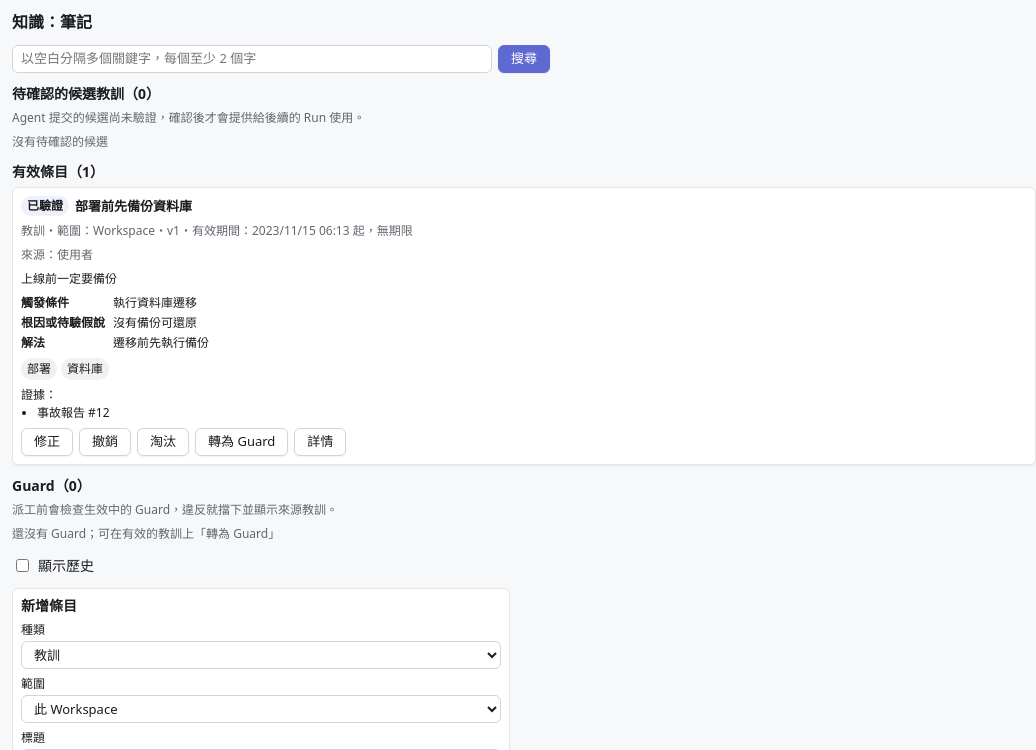
Test: 知識 › 其他操作失敗時在該條目顯示 Runtime 的說明，表單保留
Click the button "撤銷" at (105,442), box [79,428,131,456]
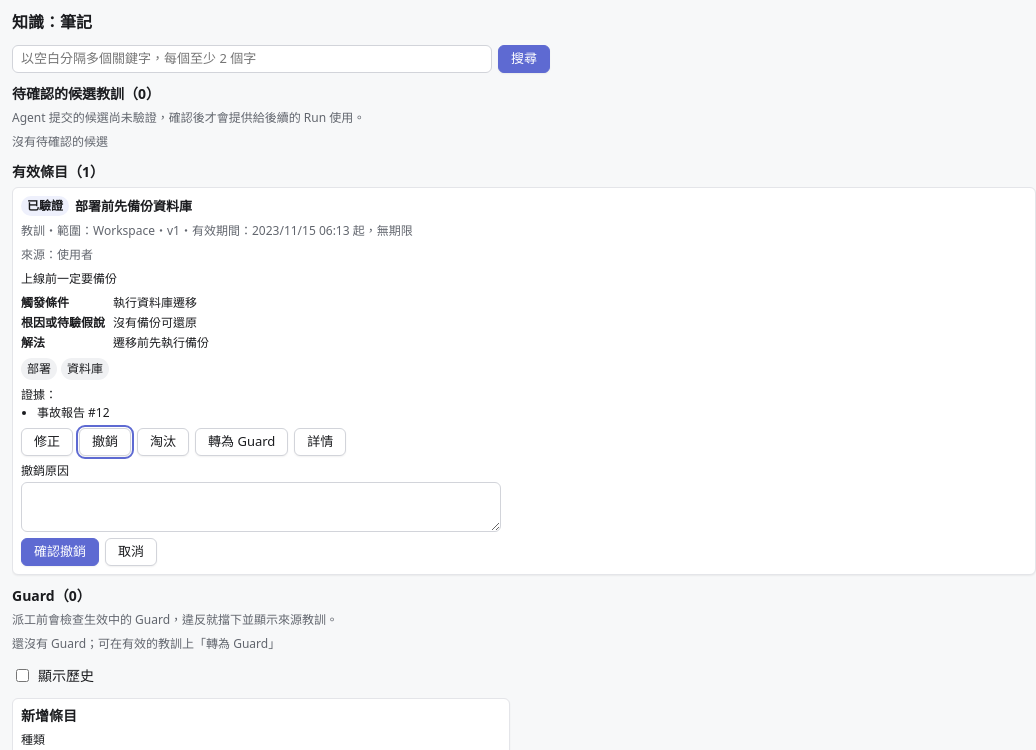
Type "錯誤" into the text box labelled "撤銷原因" at (261,507), box [21,482,501,532]
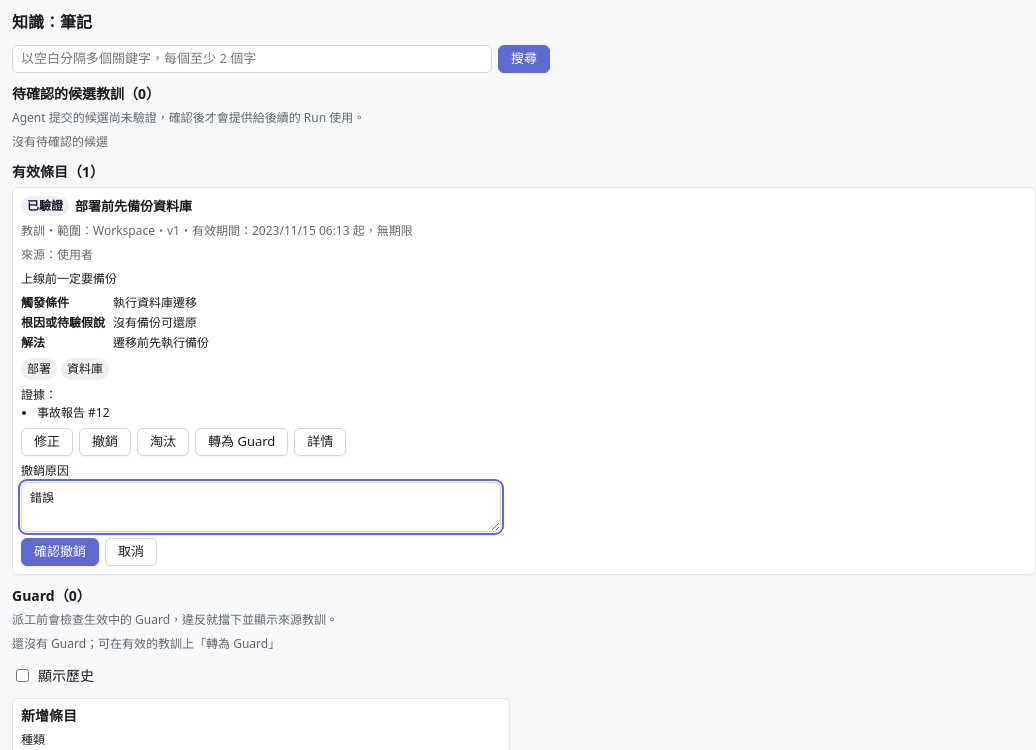
Click the button "確認撤銷" at (60,552), box [21,538,99,566]
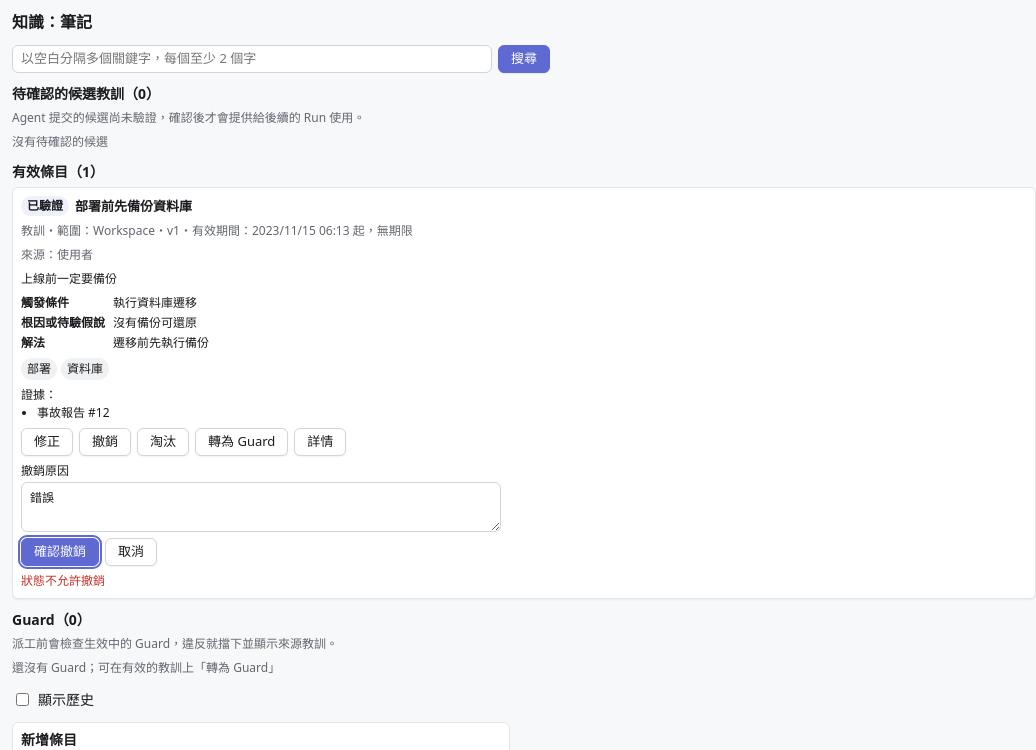
Expected: the form "撤銷" is shown, [21,462,501,566]
Expected: the message reads "狀態不允許撤銷", [21,572,105,589]
